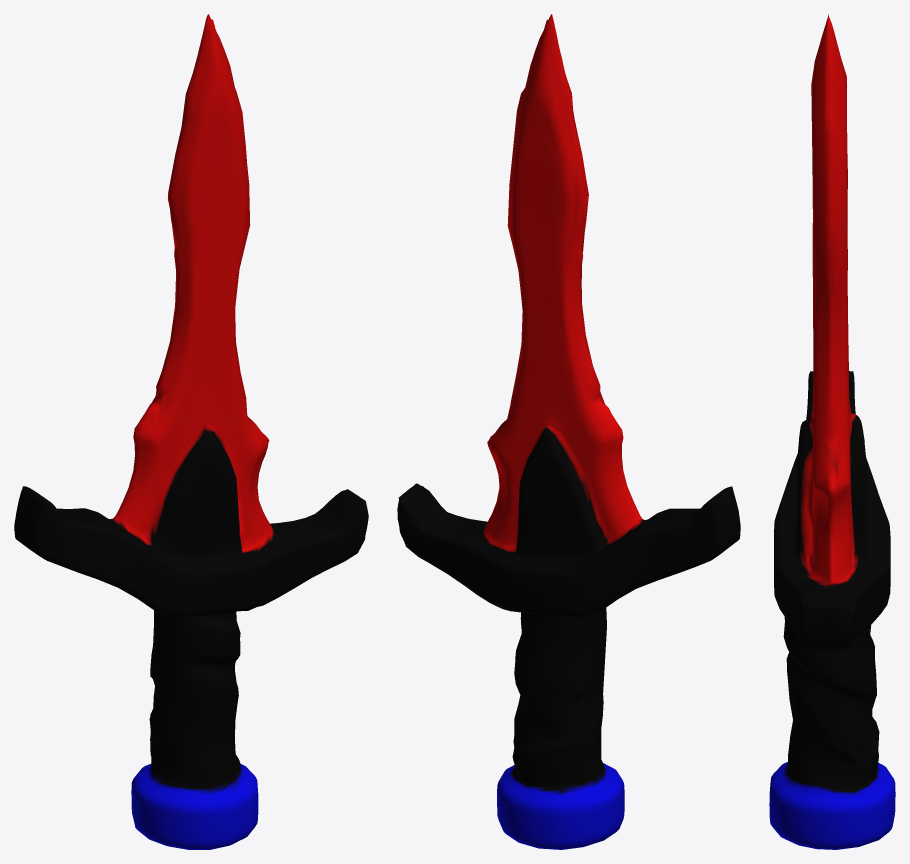
Rendered from metal_defender.glb.
3 views of the same model, side by side, from view 1: azimuth 30°, elevation 25°; view 2: azimuth 150°, elevation 25°; view 3: azimuth 270°, elevation 25° (orthographic).
Parts seen in each view (by area): view 1: defender; view 2: defender; view 3: defender.
Boxes of the visible parts, bbox=[...] form: defender: bbox=[14, 14, 368, 849]; defender: bbox=[397, 14, 740, 849]; defender: bbox=[769, 14, 895, 849].
Size of the model in its own units: 0.9157 by 2.15 by 0.3.
